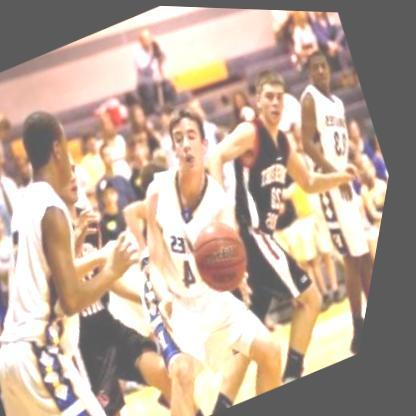basketball: (184, 207, 273, 298)
